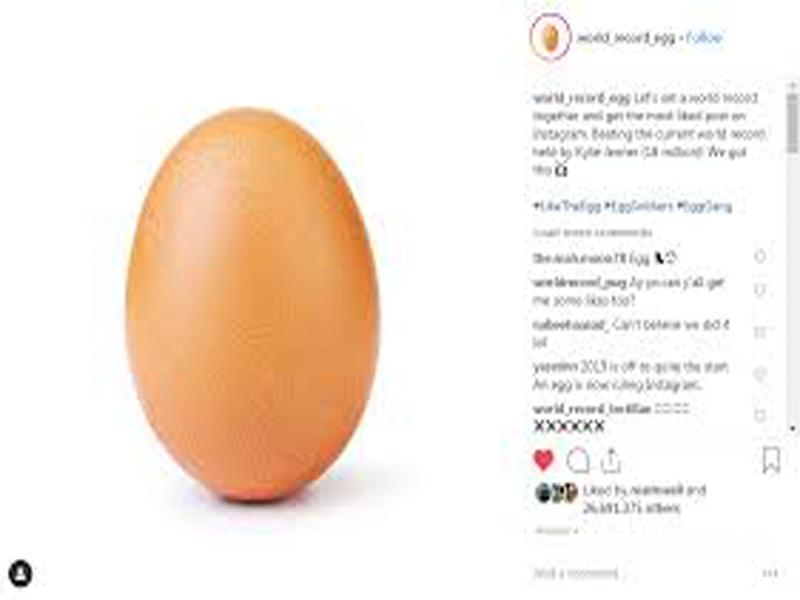Eggs: (125, 110, 379, 497)
